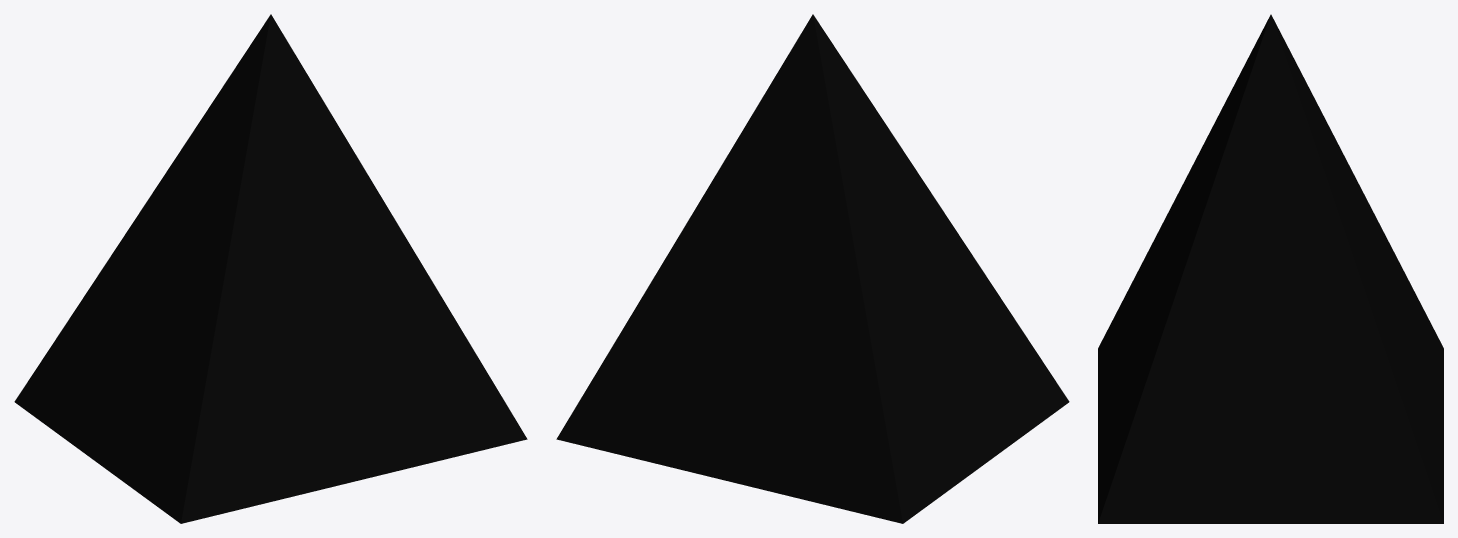
The model's file is phyramid.glb.
The picture shows the model from 3 angles, left to right: view 1: azimuth 30°, elevation 25°; view 2: azimuth 150°, elevation 25°; view 3: azimuth 270°, elevation 25°; orthographic projection. The views are drawn at different scales.
Parts seen in each view (by area): view 1: mesh_id27; view 2: mesh_id27; view 3: mesh_id27.
Part boxes in pixels (left/top/right/bottom): mesh_id27: left=14, top=14, right=527, bottom=523; mesh_id27: left=556, top=14, right=1069, bottom=523; mesh_id27: left=1098, top=14, right=1443, bottom=523.
Bounding box in the file's own units: 0.2277 × 0.2553 × 0.1895.
1 material, 1 textured.
